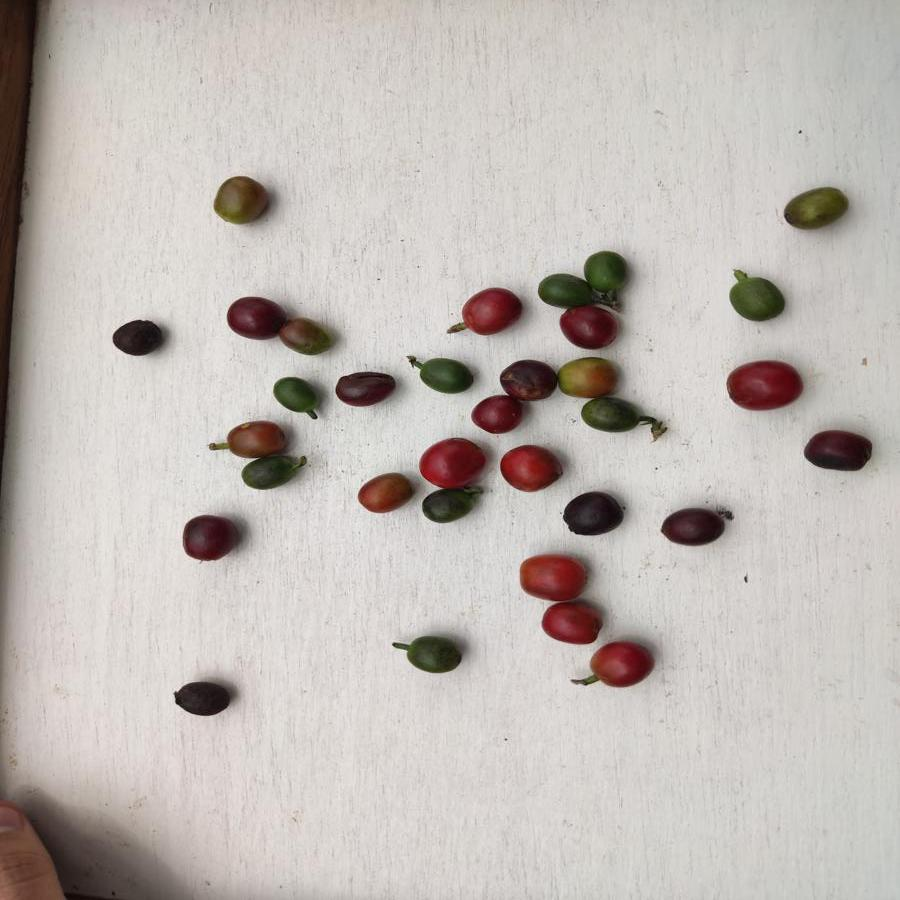Inmaduro: (727, 273, 783, 323), (405, 633, 462, 676), (584, 247, 629, 298), (580, 397, 640, 435), (414, 355, 473, 392), (422, 488, 474, 527), (537, 272, 594, 306), (271, 376, 321, 414), (242, 458, 298, 491)
Maduro: (723, 358, 804, 411), (517, 554, 593, 599), (419, 439, 487, 487), (590, 638, 654, 688), (457, 287, 523, 335), (500, 442, 563, 491), (539, 601, 603, 647)
Pinton: (785, 183, 847, 231), (212, 174, 268, 223), (558, 355, 619, 397), (228, 419, 288, 455), (358, 473, 412, 512), (280, 318, 332, 355)
Sobremaduro: (802, 427, 877, 472), (561, 489, 625, 539), (180, 513, 241, 562), (551, 305, 619, 348), (658, 506, 726, 547), (329, 369, 399, 406), (227, 293, 281, 339), (499, 358, 556, 400), (107, 320, 168, 358), (171, 681, 234, 717), (470, 395, 522, 435)
